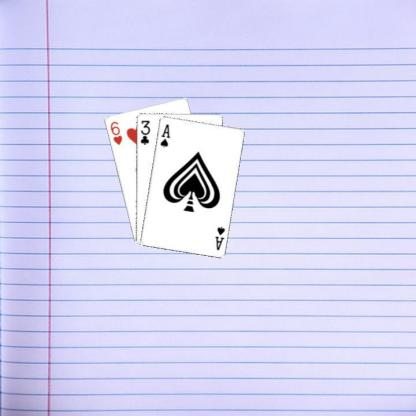3C: (137, 118, 151, 145)
6H: (108, 119, 123, 146)
AS: (213, 224, 226, 251), (158, 122, 171, 148)
